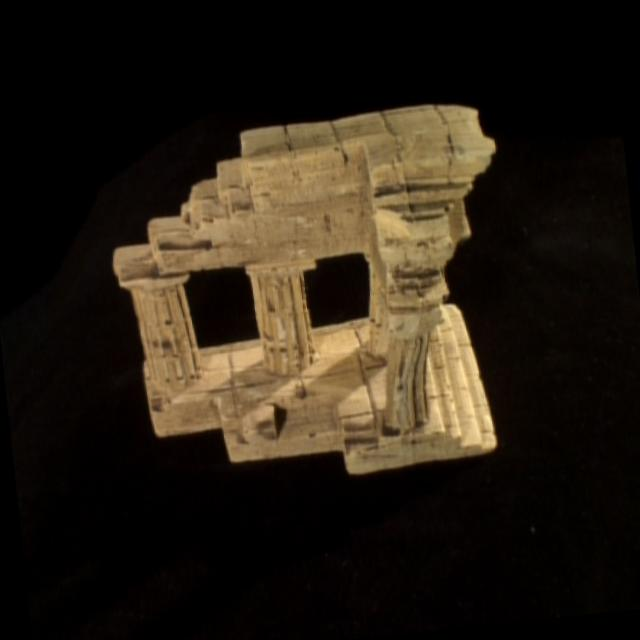Instance-Segmentation: (115, 105, 496, 473)
